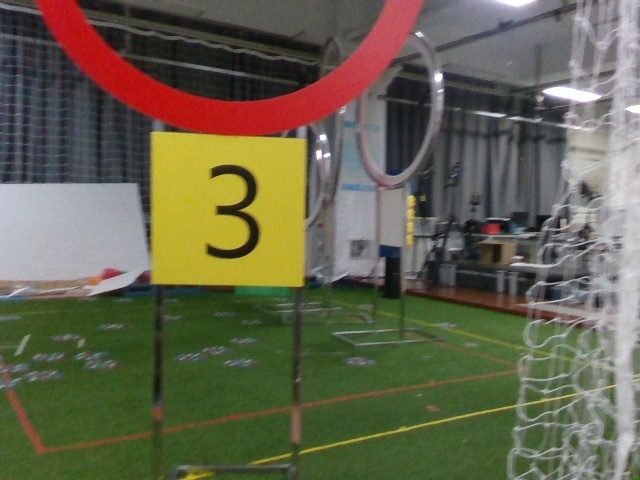target: (152, 137, 289, 286)
